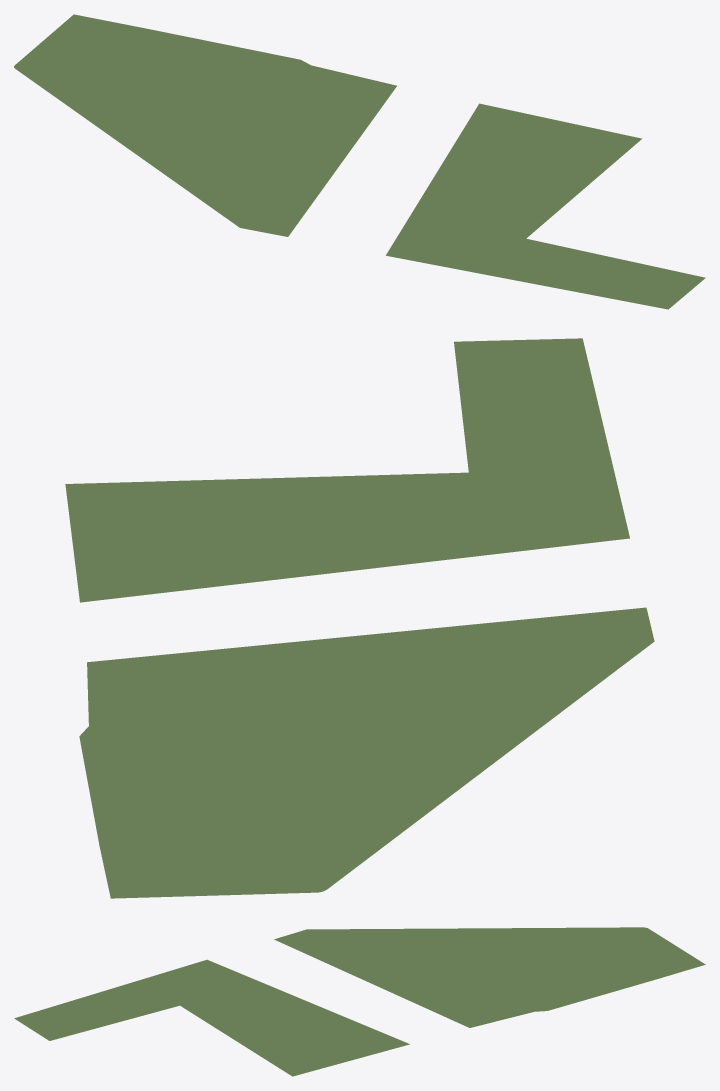
Rendered from Production_ParkGround.glb.
3 renders of one model, top to bottom at view 1: azimuth 30°, elevation 25°; view 2: azimuth 150°, elevation 25°; view 3: azimuth 270°, elevation 25°, orthographic. The views are drawn at different scales.
Parts seen in each view (by area): view 1: Production_ParkGround_Landscape_Lawn; view 2: Production_ParkGround_Landscape_Lawn; view 3: Production_ParkGround_Landscape_Lawn.
Part boxes in pixels (bbox=[...]): Production_ParkGround_Landscape_Lawn: bbox=[14, 14, 705, 309]; Production_ParkGround_Landscape_Lawn: bbox=[65, 338, 654, 898]; Production_ParkGround_Landscape_Lawn: bbox=[14, 927, 705, 1076].
Bounding box in the file's own units: 432 × 0 × 847.
